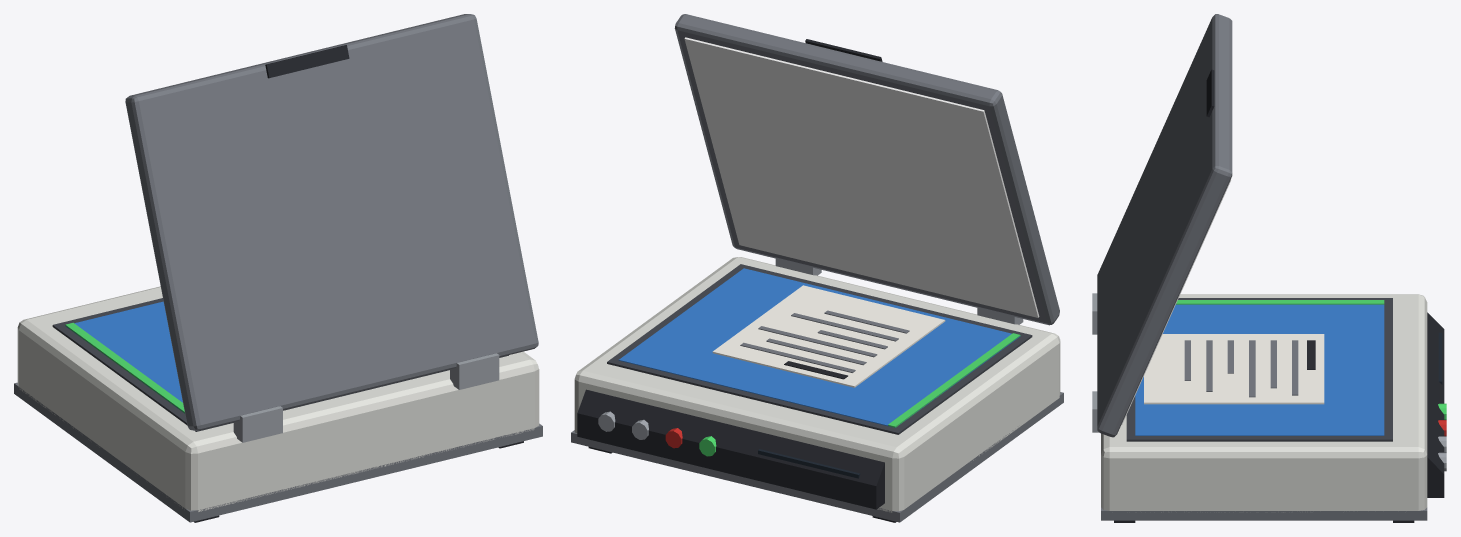
File: scanner.obj
The picture shows the model from 3 angles, left to right: view 1: azimuth 30°, elevation 25°; view 2: azimuth 150°, elevation 25°; view 3: azimuth 270°, elevation 25°; orthographic projection. The views are drawn at different scales.
Visible parts, largest first — view 1: scanner; view 2: scanner; view 3: scanner.
Part boxes in pixels (x1,y1,x2,y2): scanner: [14, 14, 542, 522]; scanner: [571, 14, 1063, 522]; scanner: [1092, 14, 1446, 522].
Bounding box in the file's own units: 0.88 × 0.9281 × 0.825.
